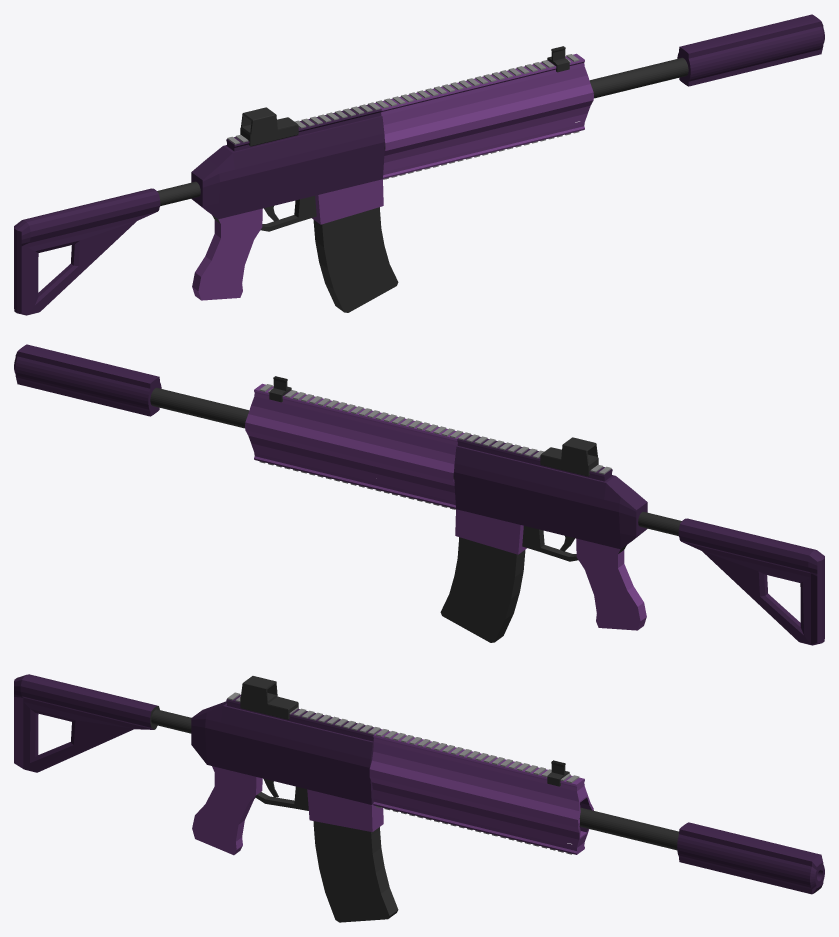
File: assault_rifle_.fbx
The picture shows the model from 3 angles, top to bottom: view 1: azimuth 30°, elevation 25°; view 2: azimuth 150°, elevation 25°; view 3: azimuth 330°, elevation 25°; orthographic projection.
Visible parts, largest first — view 1: Body, Mag; view 2: Body, Mag; view 3: Body, Mag.
Part boxes in pixels (x1,y1,x2,y2): Body: (14,14,824,315); Mag: (313,207,398,312); Body: (14,344,824,645); Mag: (440,537,525,642); Body: (14,674,824,894); Mag: (313,821,398,922).
Bounding box in the file's own units: 193 × 49.84 × 6.58.
